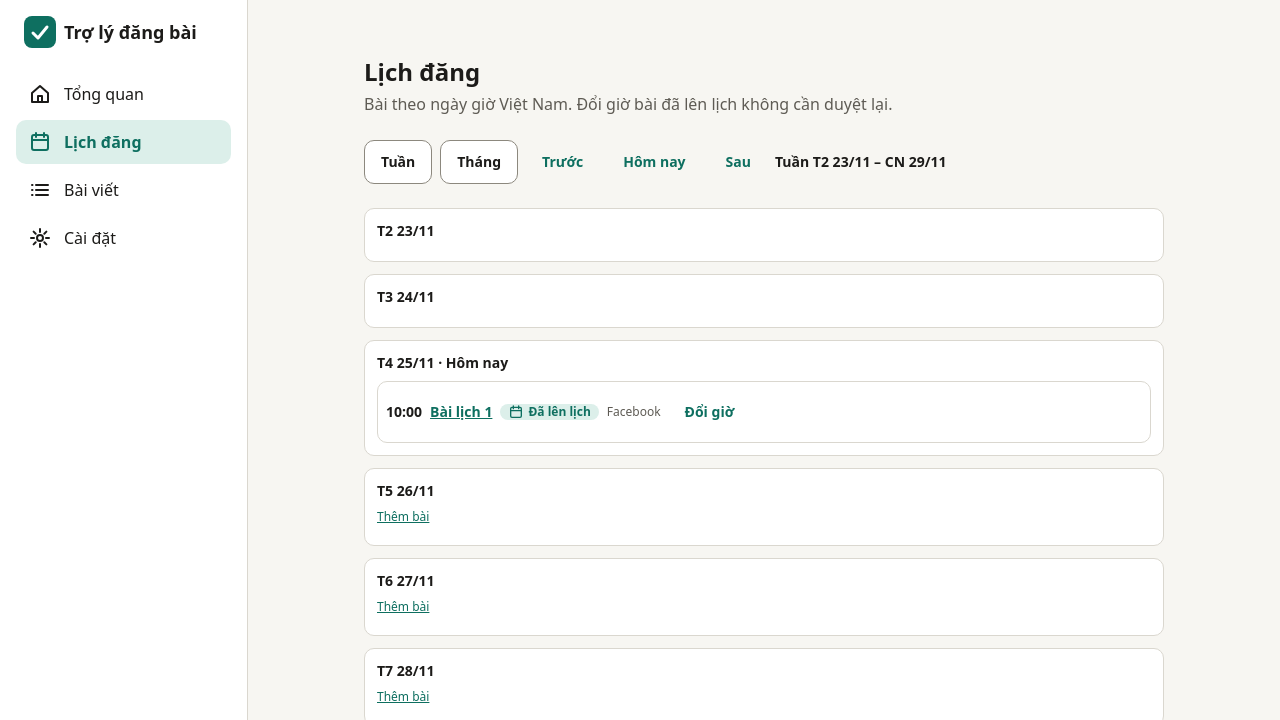
Scenario: CalendarPage › máy chủ từ chối (giờ quá khứ) → thông điệp kèm cách xử lý, thẻ vẫn ở chỗ cũ
Expected: the link "Bài lịch 1" is shown, top-left (430, 402), bottom-right (492, 422)
Click the button "Đổi giờ".
click(709, 412)  # box top-left (669, 390), bottom-right (750, 434)
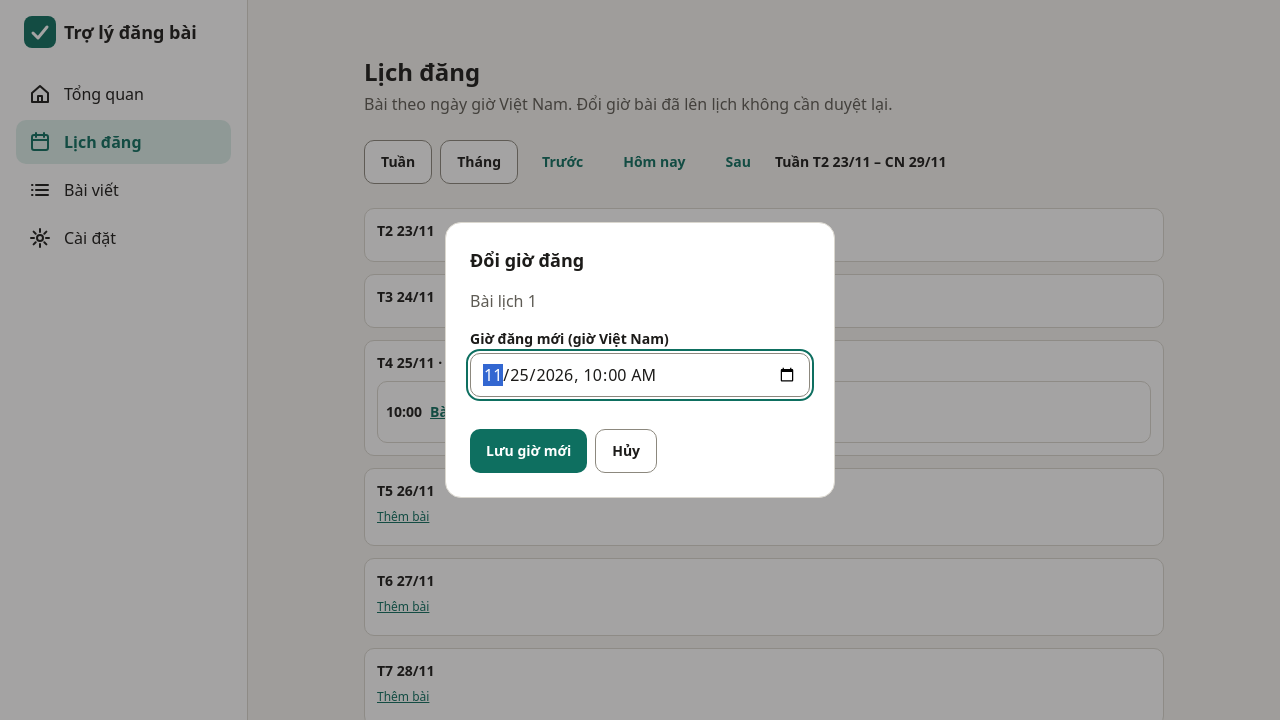
Replace the text in the field labelled "Giờ đăng mới (giờ Việt Nam)" with "2020-01-01T09:00" at (640, 375), box top-left (470, 353), bottom-right (810, 397)
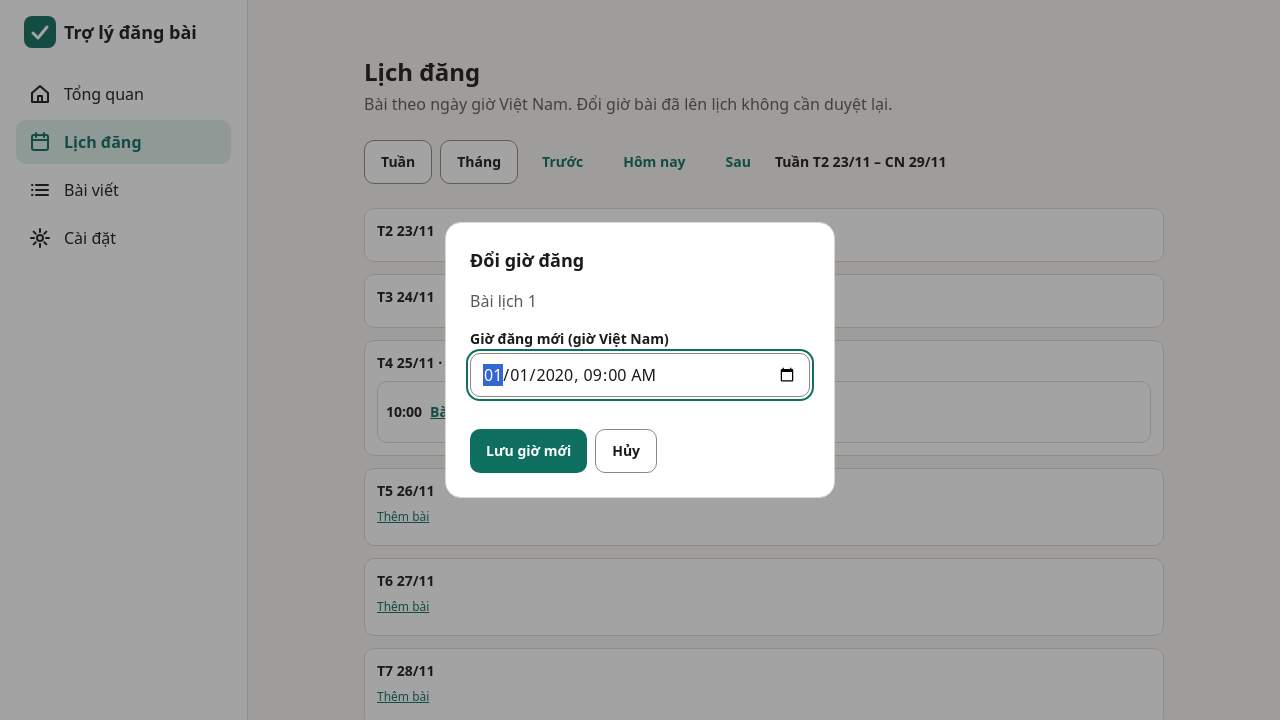
Click the button "Lưu giờ mới".
click(529, 451)  # box top-left (470, 429), bottom-right (587, 473)
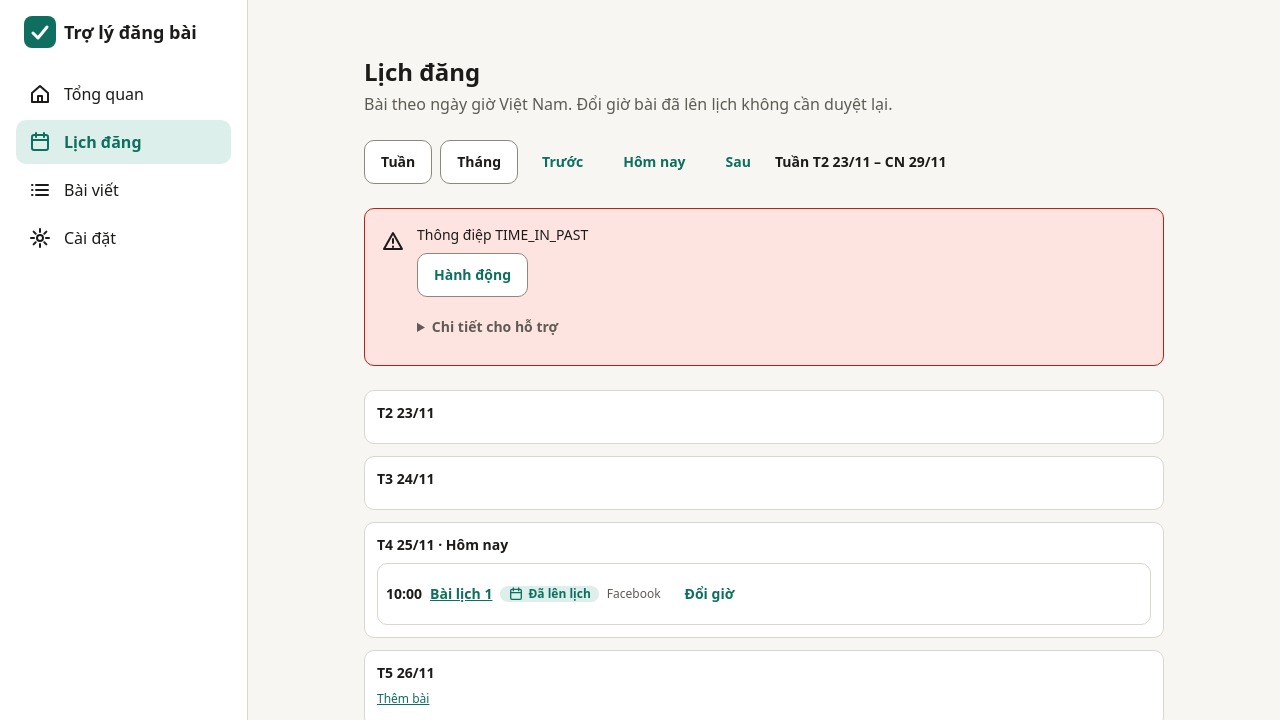
Expected: the link "Bài lịch 1" is shown, top-left (430, 584), bottom-right (492, 604)
Expected: the message "Thông điệp TIME_IN_PAST Hành động Chi tiết cho hỗ trợ" is shown, top-left (364, 208), bottom-right (1164, 366)
